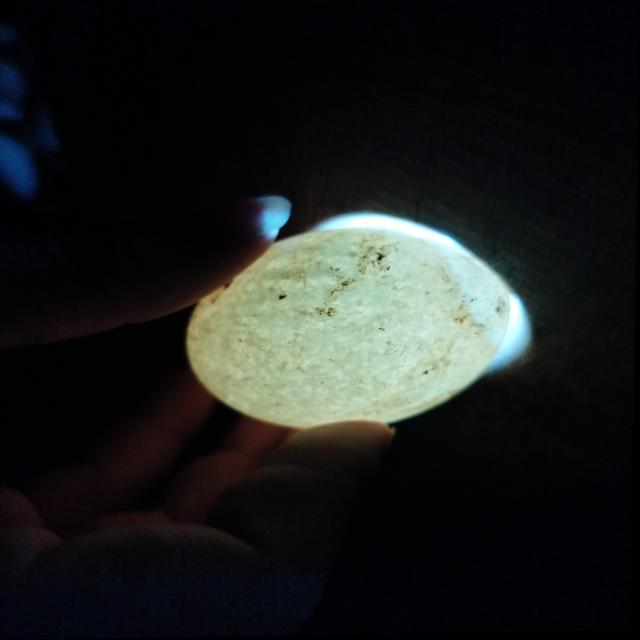Camara de Ar: (439, 246, 508, 347)
